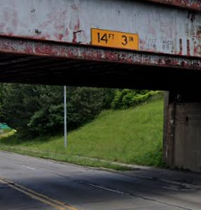1: (95, 31, 101, 44)
3: (120, 34, 128, 46)
4: (100, 31, 109, 44)
overheadsign: (89, 27, 140, 51)
